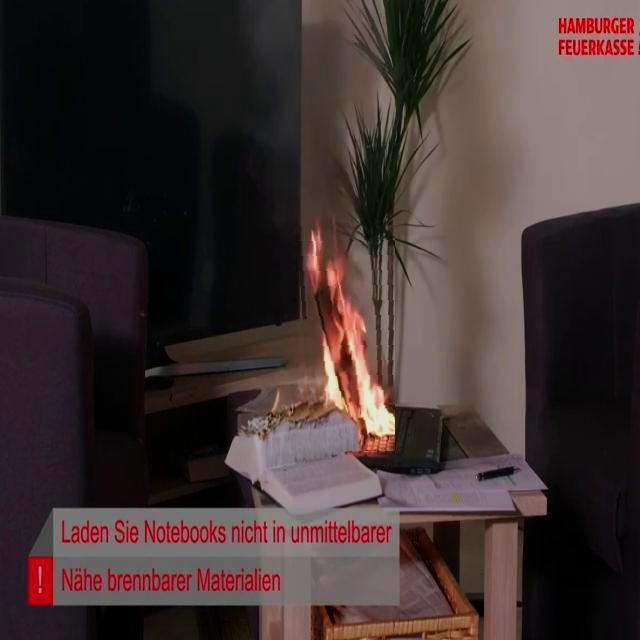fire: (246, 0, 370, 244)
smoke: (296, 218, 394, 452)
